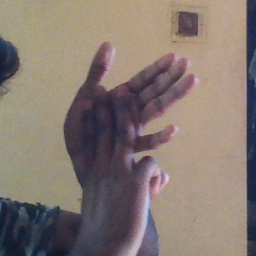M: (58, 40, 209, 227)
